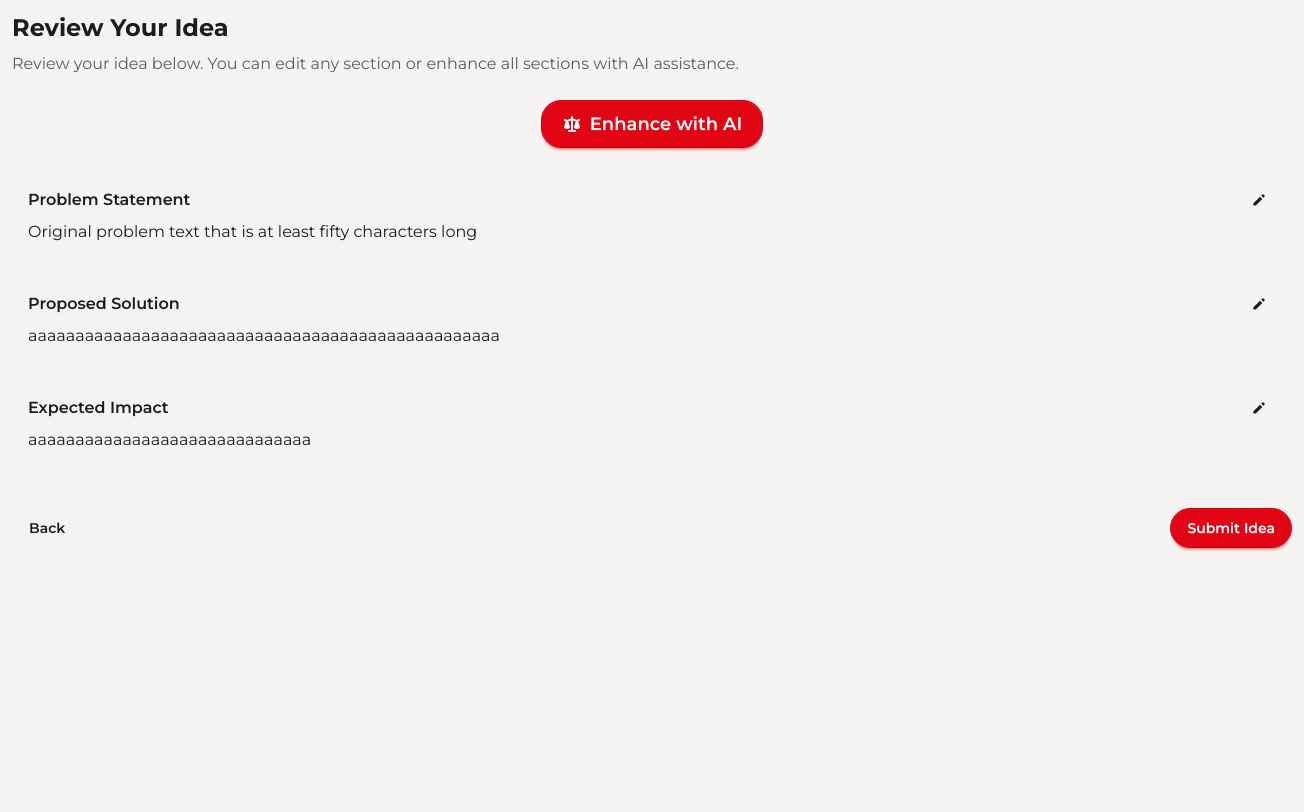
Test: StepReview › Edit Capability (AC: 3) › clicking Cancel exits edit mode without saving
Click the button with test id "edit-button-problem" at (1259, 200), box [1242,188,1276,212]
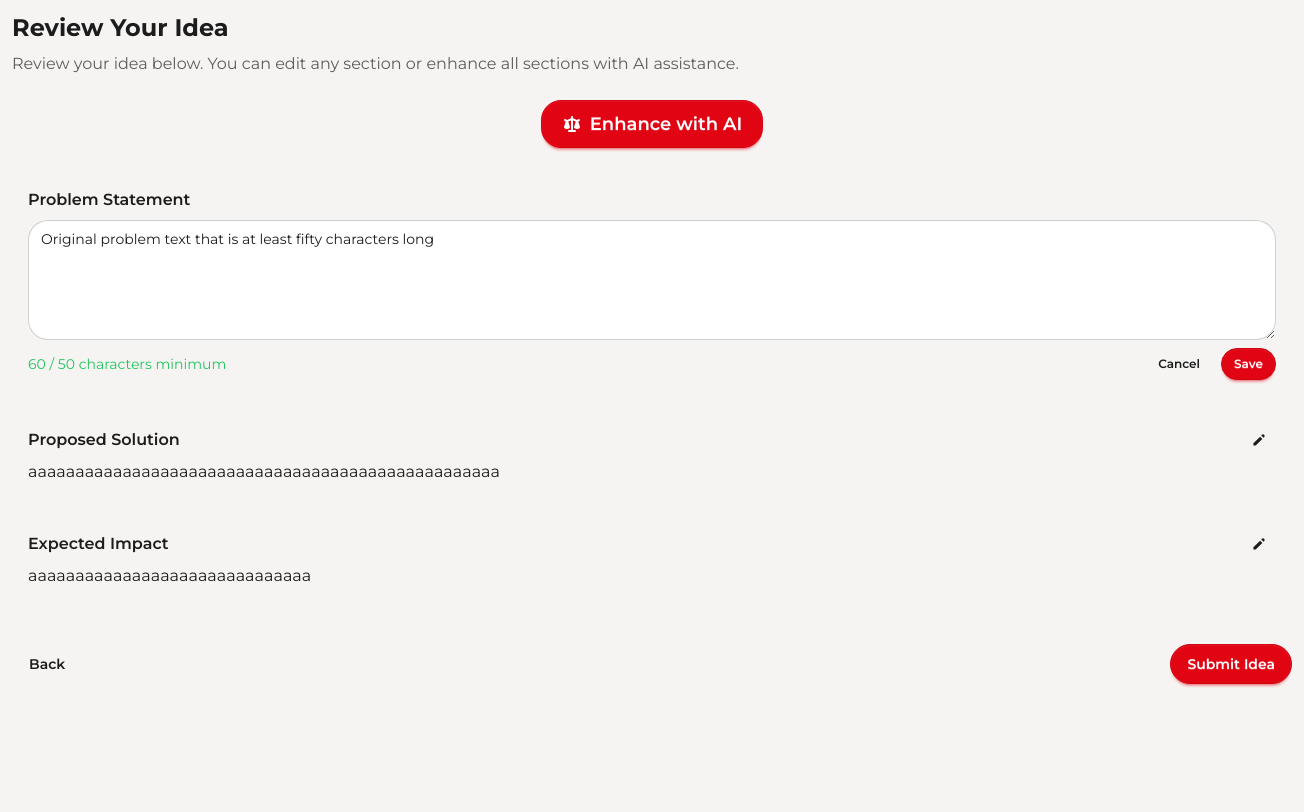
Replace the text in the text box with test id "edit-textarea-problem" with "New text that is completely different from the original" at (652, 280), box [28,220,1276,340]
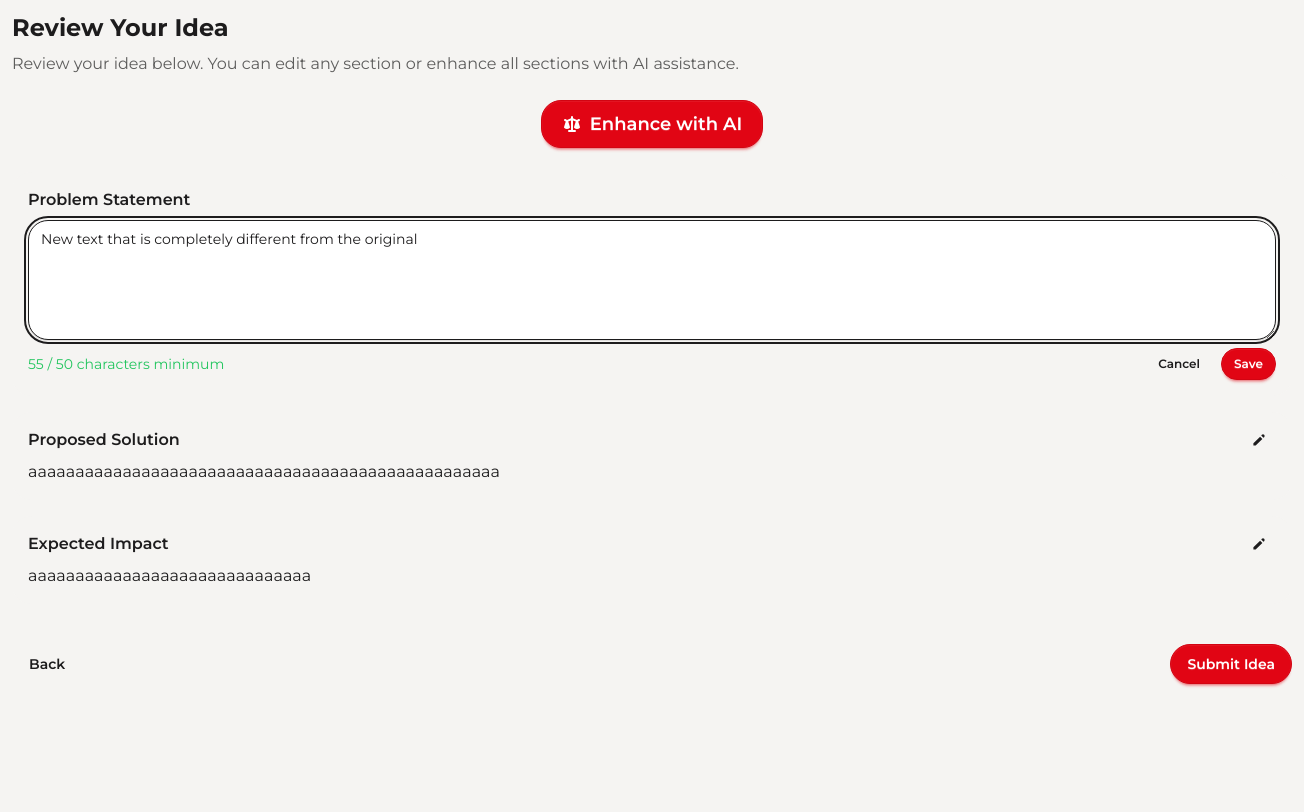
Click the button with test id "cancel-edit-button" at (1179, 364), box [1145,348,1213,380]
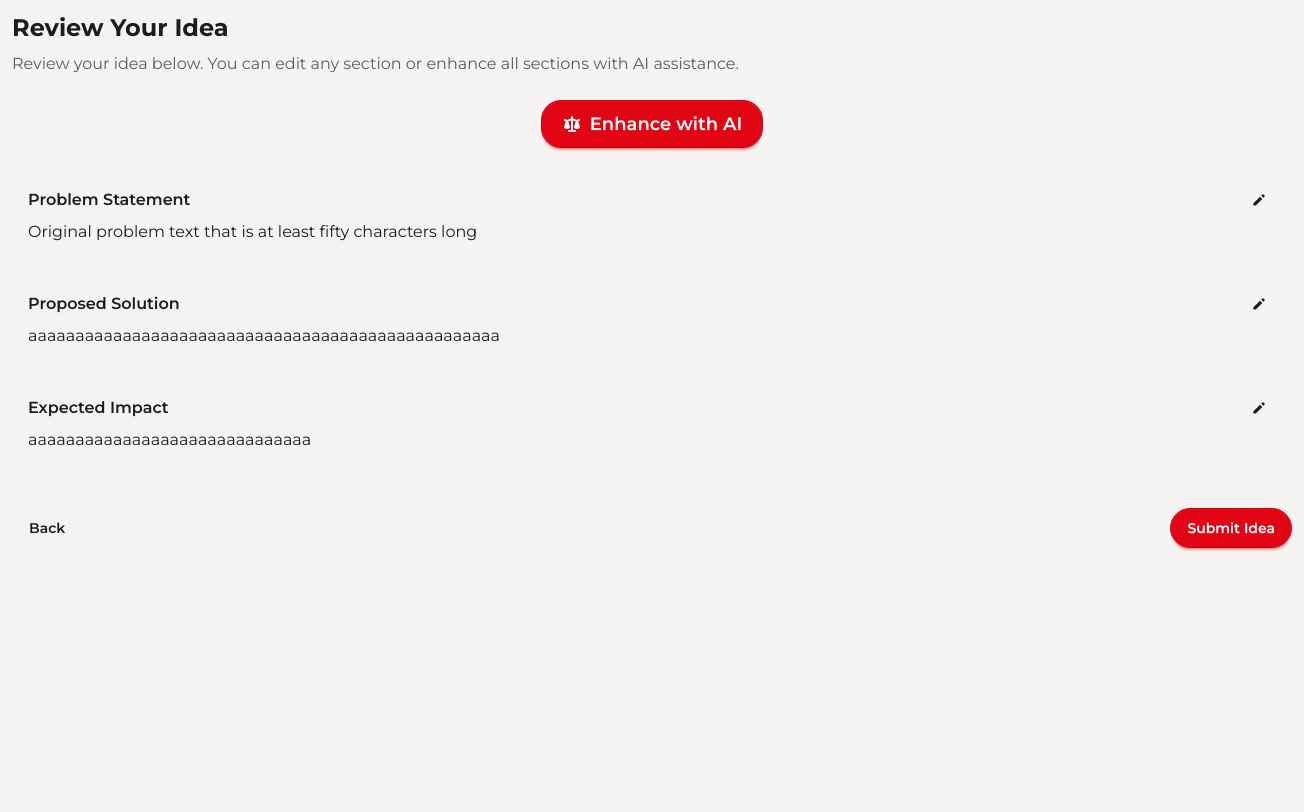
Check: the text "Original problem text that is at least fifty characters long" is shown, box [28,222,477,241]
